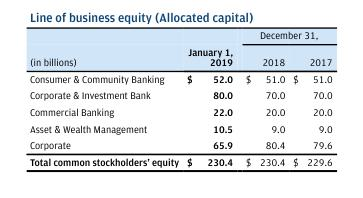table: (28, 28, 331, 167)
table column: (28, 28, 182, 167), (182, 28, 238, 167), (238, 28, 288, 167), (288, 28, 331, 167)
table column header: (28, 28, 331, 69)
table row: (28, 48, 331, 69), (28, 28, 331, 48), (28, 69, 331, 86), (28, 86, 331, 103), (28, 119, 331, 136), (28, 103, 331, 119), (28, 136, 331, 152), (28, 152, 331, 167)
table spanning cell: (28, 28, 182, 69), (182, 28, 238, 69), (238, 28, 331, 48)
